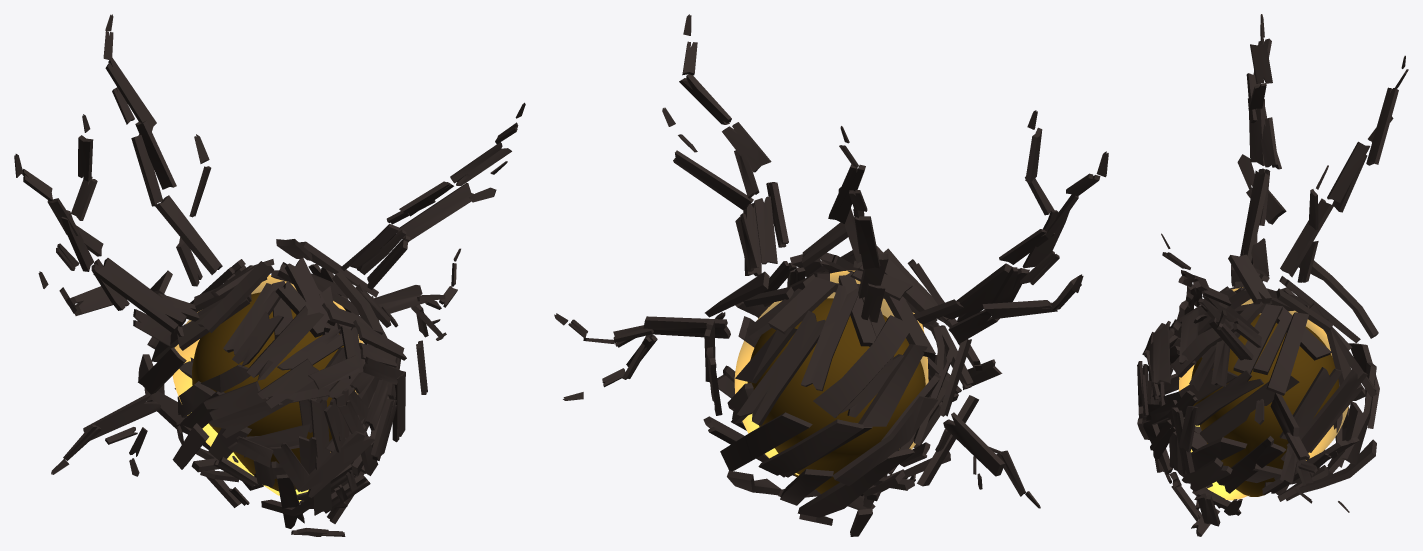
The model's file is Hidden_King_Weak.glb.
The picture shows the model from 3 angles, left to right: view 1: azimuth 30°, elevation 25°; view 2: azimuth 150°, elevation 25°; view 3: azimuth 270°, elevation 25°; orthographic projection. The views are drawn at different scales.
Visible parts, largest first — view 1: models\npc\core_amber\core_amber.vmdl_c.core_amber_model, models\npc\core_amber\core_amber.vmdl_c.core_core_amber_inne; view 2: models\npc\core_amber\core_amber.vmdl_c.core_amber_model, models\npc\core_amber\core_amber.vmdl_c.core_core_amber_inne; view 3: models\npc\core_amber\core_amber.vmdl_c.core_amber_model, models\npc\core_amber\core_amber.vmdl_c.core_core_amber_inne.
Part boxes in pixels (x1=…): models\npc\core_amber\core_amber.vmdl_c.core_amber_model: x1=14, y1=14, x2=525, y2=536; models\npc\core_amber\core_amber.vmdl_c.core_core_amber_inne: x1=172, y1=275, x2=363, y2=502; models\npc\core_amber\core_amber.vmdl_c.core_amber_model: x1=554, y1=14, x2=1108, y2=536; models\npc\core_amber\core_amber.vmdl_c.core_core_amber_inne: x1=734, y1=270, x2=928, y2=493; models\npc\core_amber\core_amber.vmdl_c.core_amber_model: x1=1137, y1=14, x2=1408, y2=536; models\npc\core_amber\core_amber.vmdl_c.core_core_amber_inne: x1=1179, y1=287, x2=1348, y2=500.
Size of the model in its own units: 13.79 by 12.68 by 7.29.
